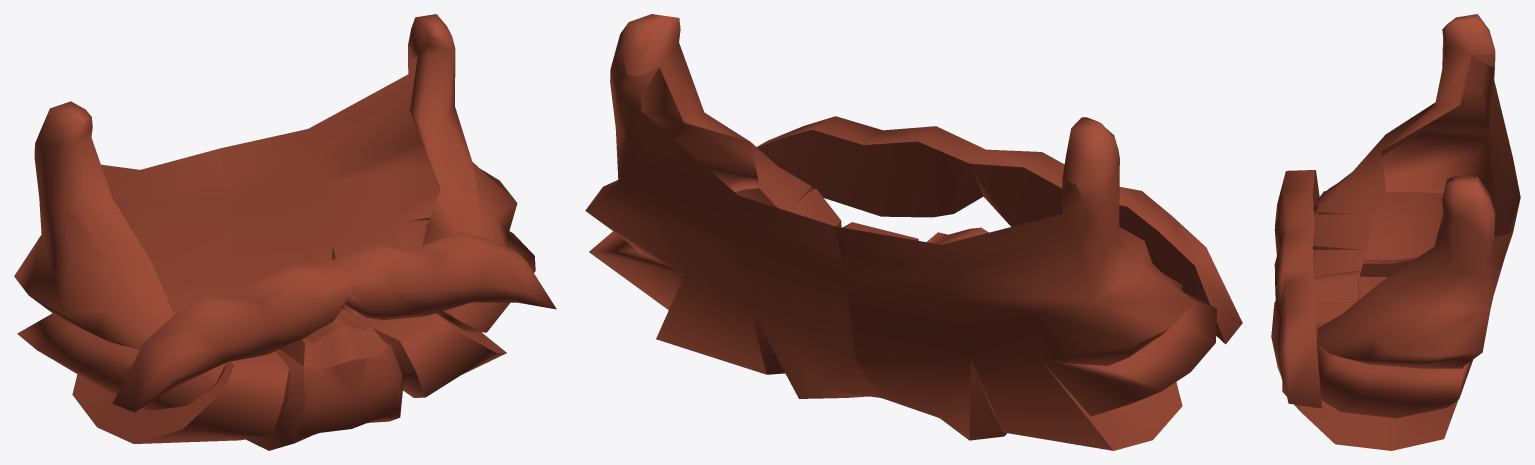
File: Beard_Brown_16.fbx
3 renders of one model, left to right at view 1: azimuth 30°, elevation 25°; view 2: azimuth 150°, elevation 25°; view 3: azimuth 270°, elevation 25°, orthographic. The views are drawn at different scales.
Visible parts, largest first — view 1: Beard_Brown_16; view 2: Beard_Brown_16; view 3: Beard_Brown_16.
Part boxes in pixels (x1=…): Beard_Brown_16: x1=14, y1=14, x2=556, y2=450; Beard_Brown_16: x1=585, y1=14, x2=1242, y2=450; Beard_Brown_16: x1=1271, y1=14, x2=1520, y2=450.
Bounding box in the file's own units: 61.15 × 39 × 30.01.
